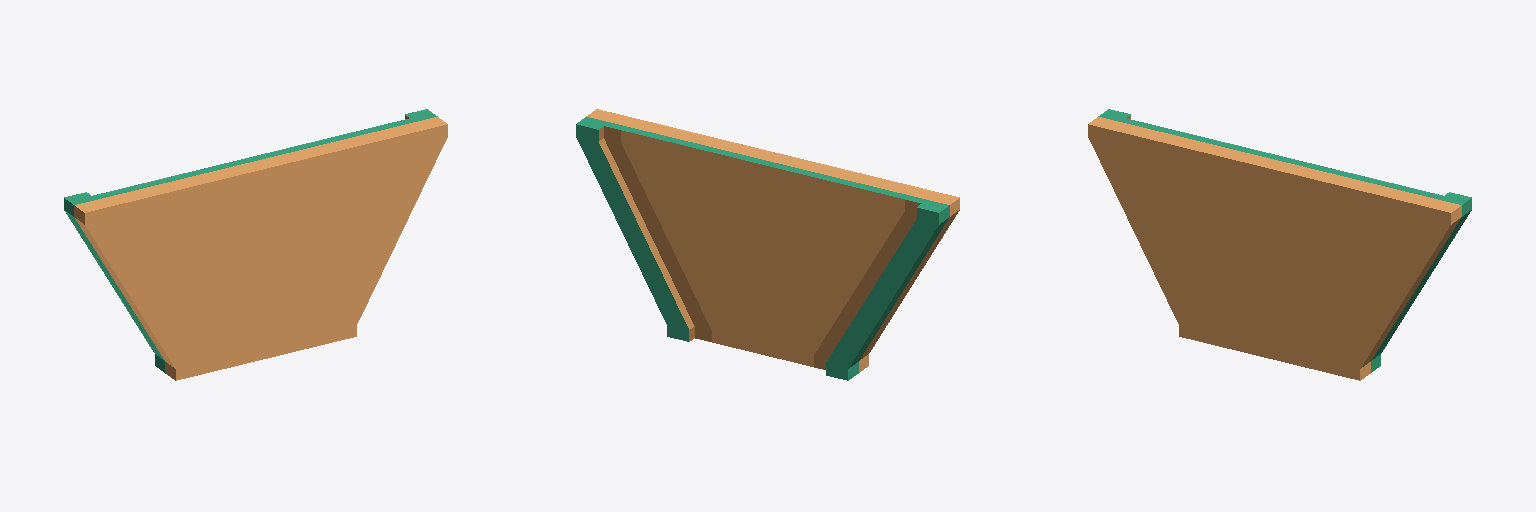
The model's file is tile_wideTransition.obj.
3 views of the same model, side by side, from view 1: azimuth 30°, elevation 25°; view 2: azimuth 150°, elevation 25°; view 3: azimuth 330°, elevation 25° (orthographic).
Parts seen in each view (by area): view 1: tile_wideTransition; view 2: tile_wideTransition; view 3: tile_wideTransition.
Boxes of the visible parts, x1,y1,x2,y2 form: tile_wideTransition: [64, 109, 447, 380]; tile_wideTransition: [576, 109, 959, 380]; tile_wideTransition: [1088, 109, 1471, 380].
Size of the model in its own units: 2 by 1 by 0.2.